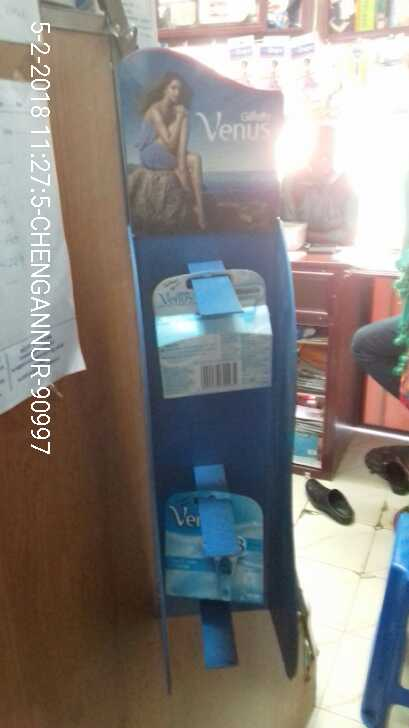venus: (161, 489, 271, 610)
